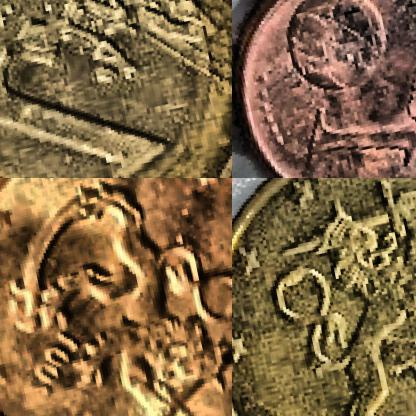coin: (0, 178, 231, 415), (232, 178, 415, 415), (0, 0, 231, 177), (232, 0, 415, 177)
